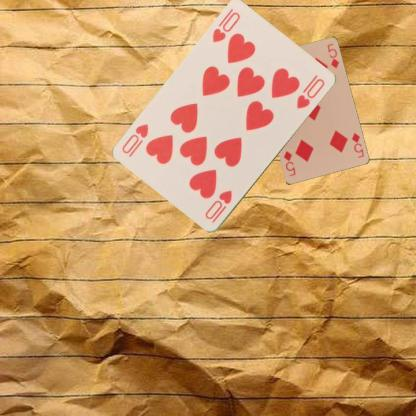10h: (202, 188, 235, 225), (210, 10, 242, 44)
5d: (348, 130, 364, 159)
